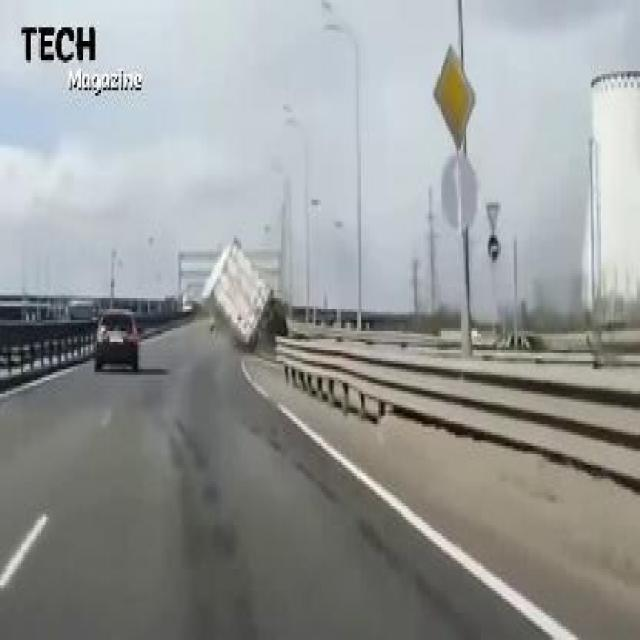accident: (195, 227, 280, 350)
